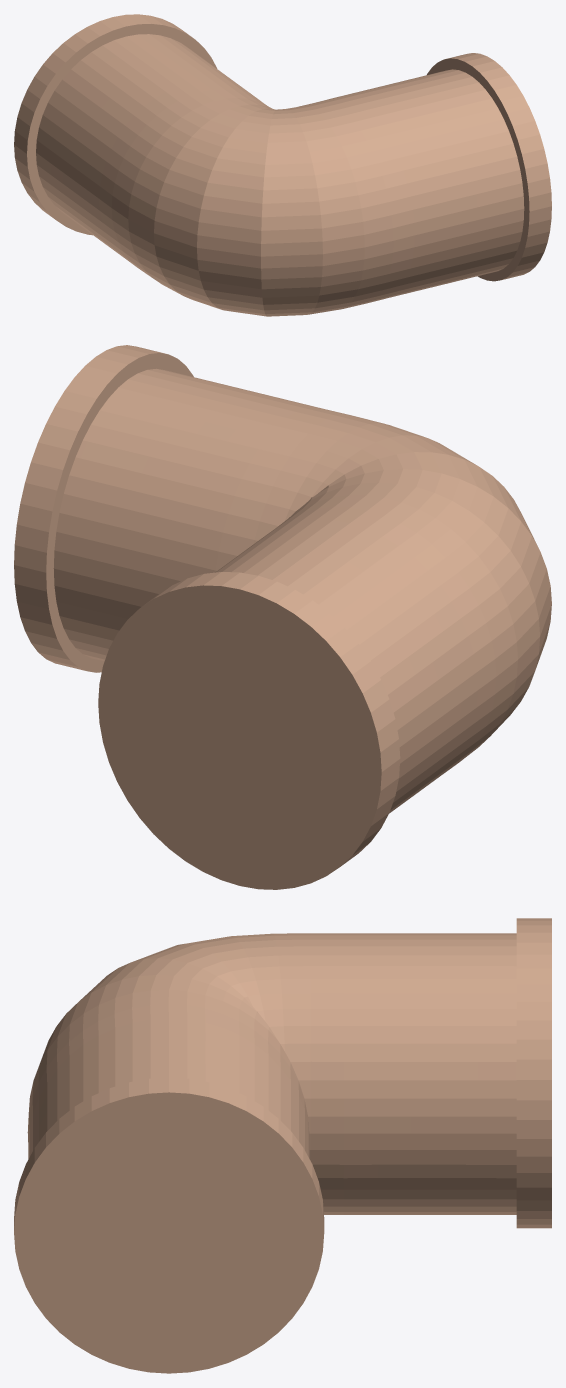
File: Joelho40mm.fbx
The picture shows the model from 3 angles, top to bottom: view 1: azimuth 30°, elevation 25°; view 2: azimuth 150°, elevation 25°; view 3: azimuth 270°, elevation 25°; orthographic projection. The views are drawn at different scales.
Parts seen in each view (by area): view 1: Cylinder; view 2: Cylinder; view 3: Cylinder.
Boxes of the visible parts, box(x1,y1,x2,y2) form: Cylinder: box(14, 14, 551, 316); Cylinder: box(14, 345, 551, 889); Cylinder: box(14, 918, 551, 1373).
Bounding box in the file's own units: 7.57 × 4.41 × 7.63.
